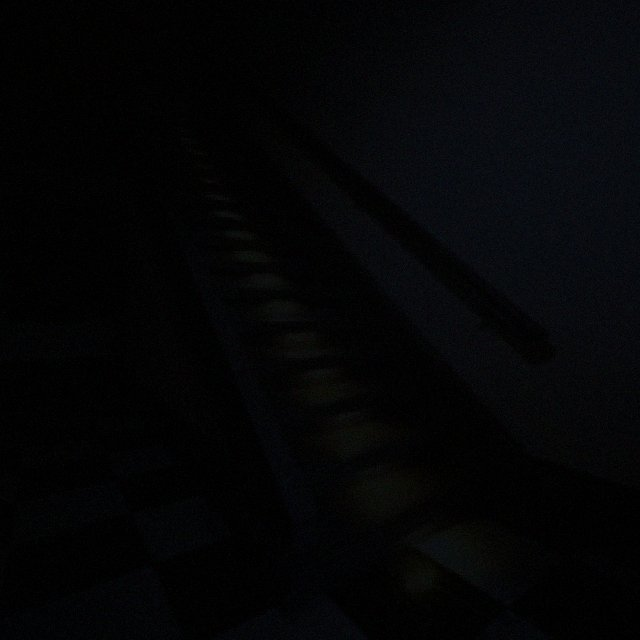stair: (129, 115, 530, 608)
